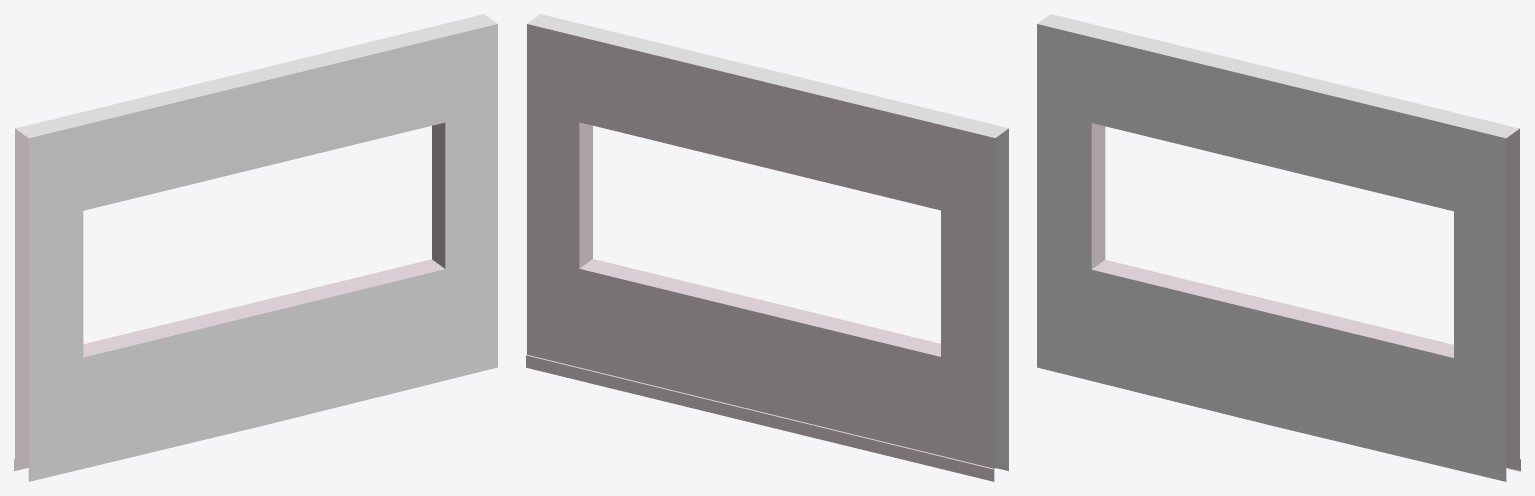
File: env_wall_window_4meters.fbx
3 renders of one model, left to right at view 1: azimuth 30°, elevation 25°; view 2: azimuth 150°, elevation 25°; view 3: azimuth 330°, elevation 25°, orthographic.
Visible parts, largest first — view 1: Casa pared ventana 4m; view 2: Casa pared ventana 4m; view 3: Casa pared ventana 4m.
Boxes of the visible parts, x1,y1,x2,y2 form: Casa pared ventana 4m: (14, 14, 497, 481); Casa pared ventana 4m: (526, 14, 1008, 481); Casa pared ventana 4m: (1037, 14, 1520, 481).
Size of the model in its own units: 400 by 280 by 23.06.
2 materials, 2 textured.
